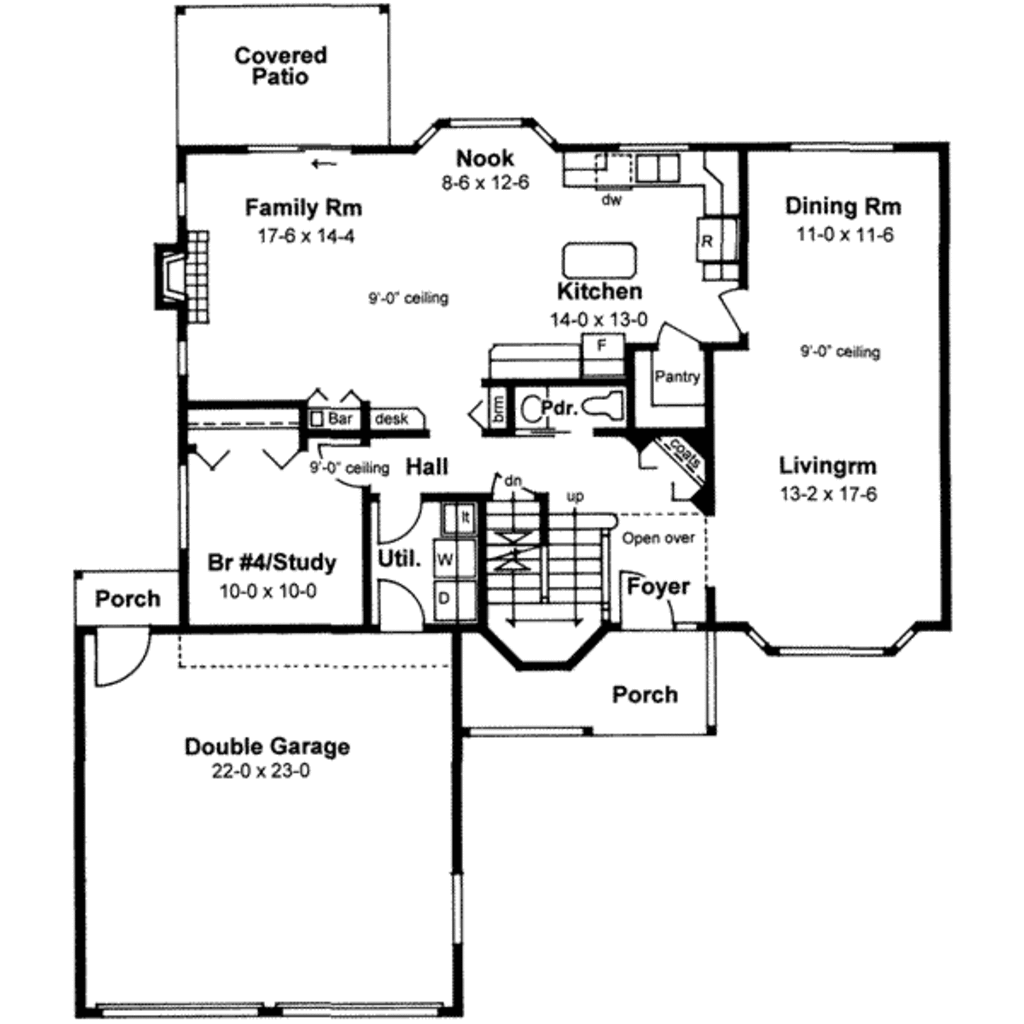door: (86, 614, 157, 690), (611, 568, 686, 639), (376, 578, 437, 632), (372, 492, 427, 549), (719, 287, 751, 339), (657, 314, 702, 349)
kitchen_bar: (551, 235, 656, 290)
large_sink: (576, 387, 627, 425)
small_sink: (516, 390, 552, 435)
stairs: (478, 462, 606, 671)
twin_sink: (624, 146, 692, 197)
window: (418, 124, 572, 152), (786, 136, 894, 162), (457, 720, 608, 733), (446, 871, 467, 947), (175, 468, 192, 555), (175, 179, 189, 228), (246, 144, 291, 152)
